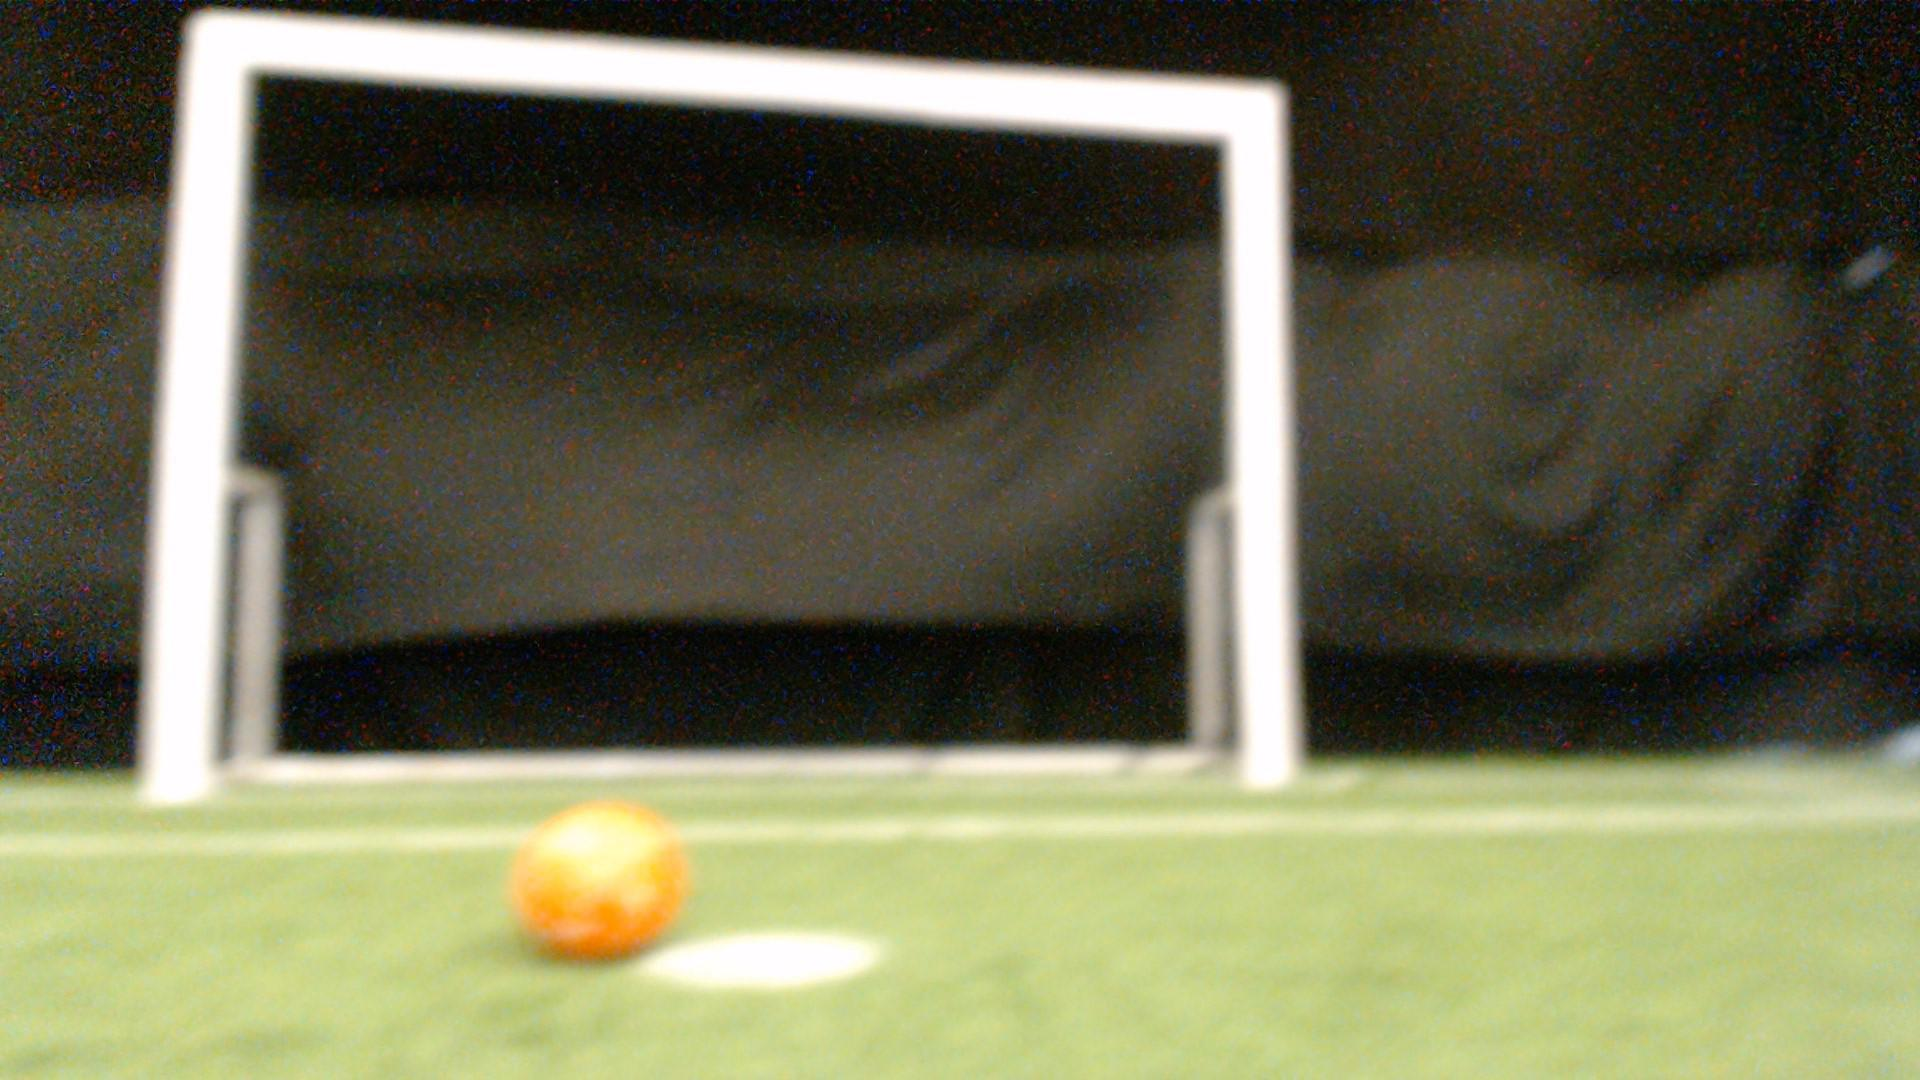bola: (488, 789, 703, 968)
